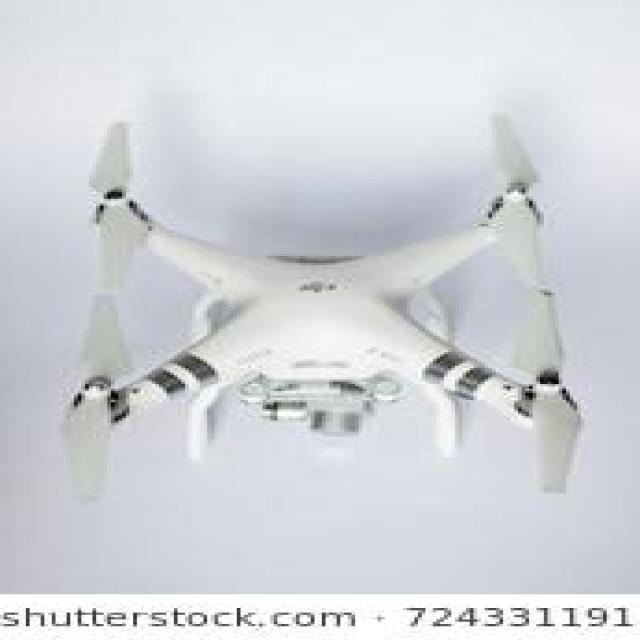drone: (0, 98, 640, 516)
